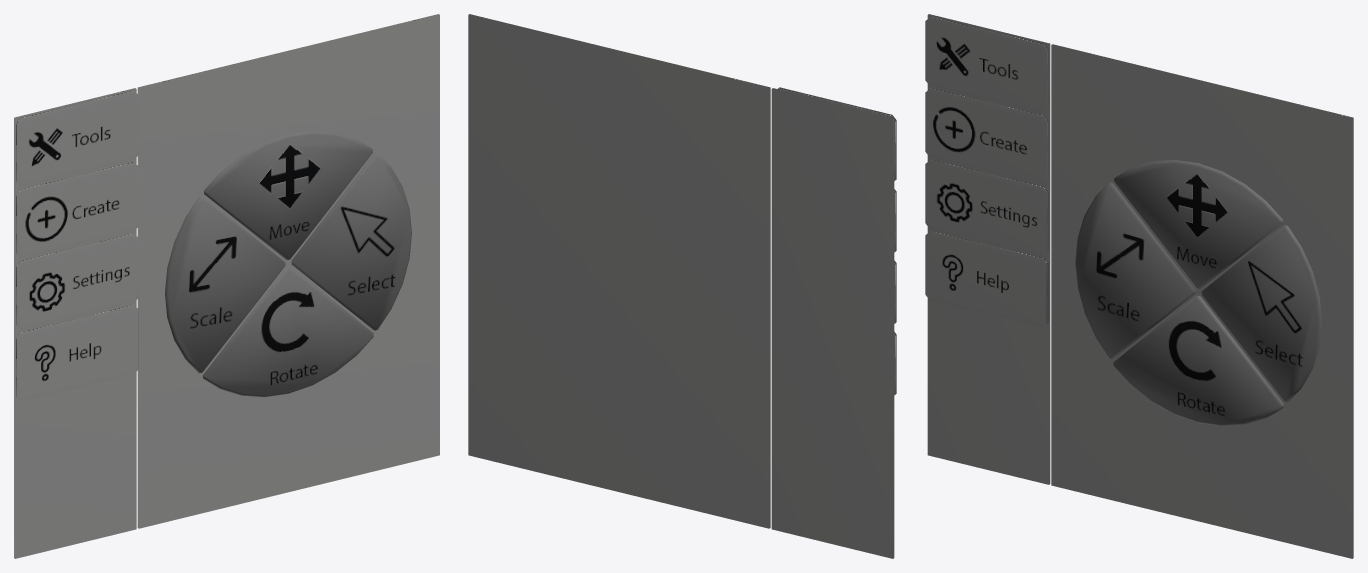
The model's file is ModellerUI.fbx.
3 renders of one model, left to right at view 1: azimuth 30°, elevation 25°; view 2: azimuth 150°, elevation 25°; view 3: azimuth 330°, elevation 25°, orthographic.
Parts seen in each view (by area): view 1: Radial Menu Back, Side menu, Bottom, Left, Right, Top, Create, Tools, Settings, Help; view 2: Radial Menu Back, Side menu, Tools; view 3: Radial Menu Back, Side menu, Bottom, Left, Right, Top, Help, Tools, Create, Settings.
Boxes of the visible parts, x1,y1,x2,y2 form: Radial Menu Back: (137, 14, 439, 528); Side menu: (14, 88, 136, 558); Bottom: (203, 266, 373, 397); Left: (165, 196, 285, 373); Right: (291, 153, 411, 330); Top: (204, 130, 372, 260); Create: (15, 161, 138, 258); Tools: (15, 90, 138, 186); Settings: (15, 233, 138, 329); Help: (15, 304, 138, 401); Radial Menu Back: (468, 14, 770, 528); Side menu: (771, 88, 894, 558); Tools: (778, 87, 896, 180); Radial Menu Back: (1051, 44, 1353, 558); Side menu: (927, 14, 1050, 484); Bottom: (1113, 295, 1283, 426); Left: (1075, 182, 1195, 359); Right: (1201, 225, 1321, 402); Top: (1114, 159, 1282, 289); Help: (925, 230, 1048, 327); Tools: (925, 16, 1048, 112); Create: (925, 87, 1048, 184); Settings: (925, 159, 1048, 255).
Size of the model in its own units: 497 by 493 by 7.79.
Materials: 1 (1 with a texture image).
